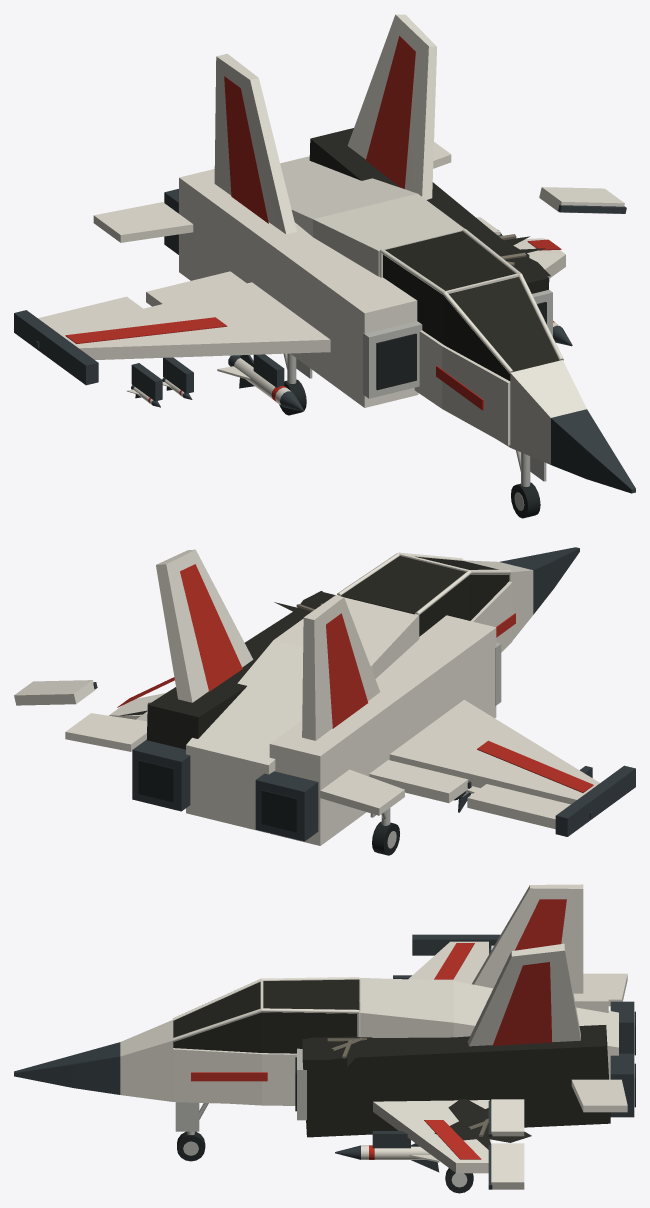
3 renders of one model, top to bottom at view 1: azimuth 30°, elevation 25°; view 2: azimuth 150°, elevation 25°; view 3: azimuth 270°, elevation 25°, orthographic. The views are drawn at different scales.
Parts seen in each view (by area): view 1: jet-b-damaged-fleet-armor, jet-b-damaged-fleet-damage-charred, jet-b-damaged-fleet-red, jet-b-damaged-fleet-machine, elevator-left-fleet-armor, jet-b-damaged-fleet-edge, jet-b-damaged-fleet-rubber, aileron-right-painted, flap-left-painted, aileron-left-painted, store-left-large-painted, gear-wheel-nose-0-0-painted; view 2: jet-b-damaged-fleet-armor, jet-b-damaged-fleet-damage-charred, jet-b-damaged-fleet-machine, jet-b-damaged-fleet-red, aileron-left-painted, jet-b-damaged-fleet-rubber, flap-left-painted, elevator-left-fleet-armor, elevator-right-fleet-armor, aileron-right-painted, gear-wheel-left-0-0-painted; view 3: jet-b-damaged-fleet-armor, jet-b-damaged-fleet-damage-charred, jet-b-damaged-fleet-red, jet-b-damaged-fleet-machine, aileron-right-painted, elevator-right-fleet-armor, flap-right-painted, store-right-large-painted, landing-gear-nose-painted, elevator-left-fleet-armor, gear-wheel-nose-0-0-painted, jet-b-damaged-fleet-edge (+2 smaller).
Part boxes in pixels (x1,y1,x2,y2): jet-b-damaged-fleet-armor: [54, 14, 586, 464]; jet-b-damaged-fleet-damage-charred: [309, 128, 559, 380]; jet-b-damaged-fleet-red: [65, 36, 561, 410]; jet-b-damaged-fleet-machine: [14, 189, 635, 493]; elevator-left-fleet-armor: [93, 202, 193, 242]; jet-b-damaged-fleet-edge: [363, 290, 552, 398]; jet-b-damaged-fleet-rubber: [376, 302, 546, 390]; aileron-right-painted: [539, 187, 626, 213]; flap-left-painted: [146, 271, 246, 306]; aileron-left-painted: [36, 296, 142, 348]; store-left-large-painted: [217, 355, 304, 411]; gear-wheel-nose-0-0-painted: [511, 482, 540, 518]; jet-b-damaged-fleet-armor: [109, 549, 599, 845]; jet-b-damaged-fleet-damage-charred: [120, 556, 509, 749]; jet-b-damaged-fleet-machine: [132, 547, 635, 841]; jet-b-damaged-fleet-red: [117, 564, 593, 792]; aileron-left-painted: [467, 784, 592, 829]; jet-b-damaged-fleet-rubber: [138, 760, 297, 832]; flap-left-painted: [369, 760, 471, 803]; elevator-left-fleet-armor: [320, 769, 404, 815]; elevator-right-fleet-armor: [65, 713, 147, 751]; aileron-right-painted: [14, 680, 97, 705]; gear-wheel-left-0-0-painted: [372, 821, 399, 855]; jet-b-damaged-fleet-armor: [120, 884, 618, 1173]; jet-b-damaged-fleet-damage-charred: [173, 979, 610, 1149]; jet-b-damaged-fleet-red: [191, 899, 566, 1159]; jet-b-damaged-fleet-machine: [14, 934, 634, 1148]; aileron-right-painted: [488, 1143, 524, 1189]; elevator-right-fleet-armor: [571, 1079, 627, 1112]; flap-right-painted: [488, 1099, 524, 1138]; store-right-large-painted: [335, 1143, 439, 1172]; landing-gear-nose-painted: [175, 1102, 208, 1134]; elevator-left-fleet-armor: [583, 973, 627, 1006]; gear-wheel-nose-0-0-painted: [177, 1131, 205, 1161]; jet-b-damaged-fleet-edge: [297, 1048, 306, 1120].
Size of the model in its own units: 62.19 by 31.35 by 69.47.
